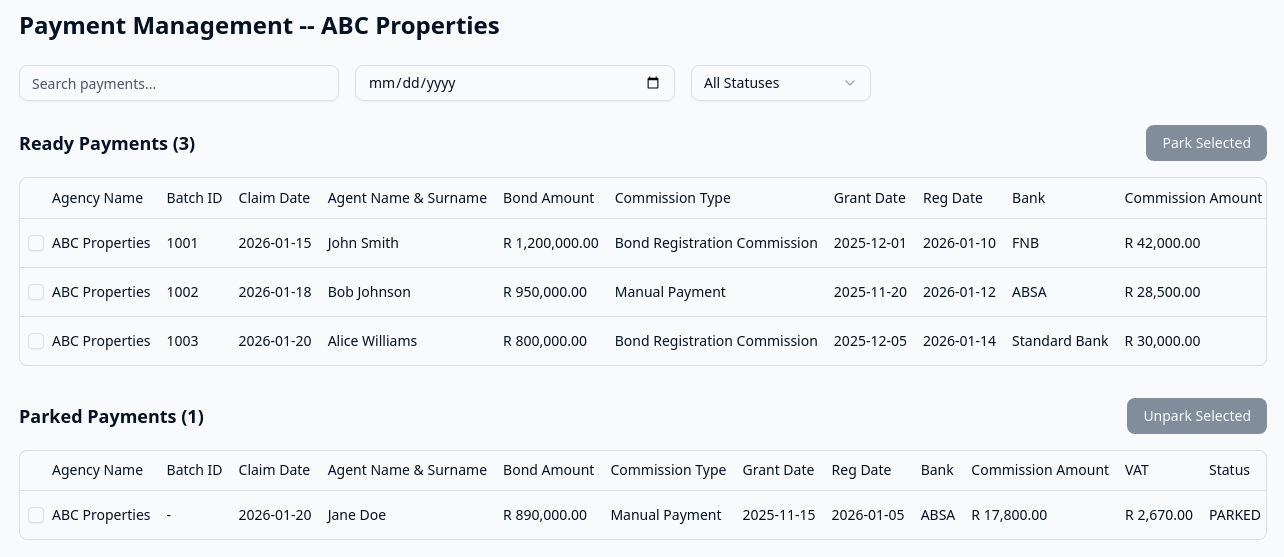
Test case: Payment Management Page › Scenario 6: Client-side text search filters Main Grid › AC-12: typing in search bar filters grid rows client-side
Expected: the text "John Smith" is shown, x1=320 y1=218 x2=495 y2=267
Type "John" into the search field at (179, 83), box x1=19 y1=65 x2=339 y2=101
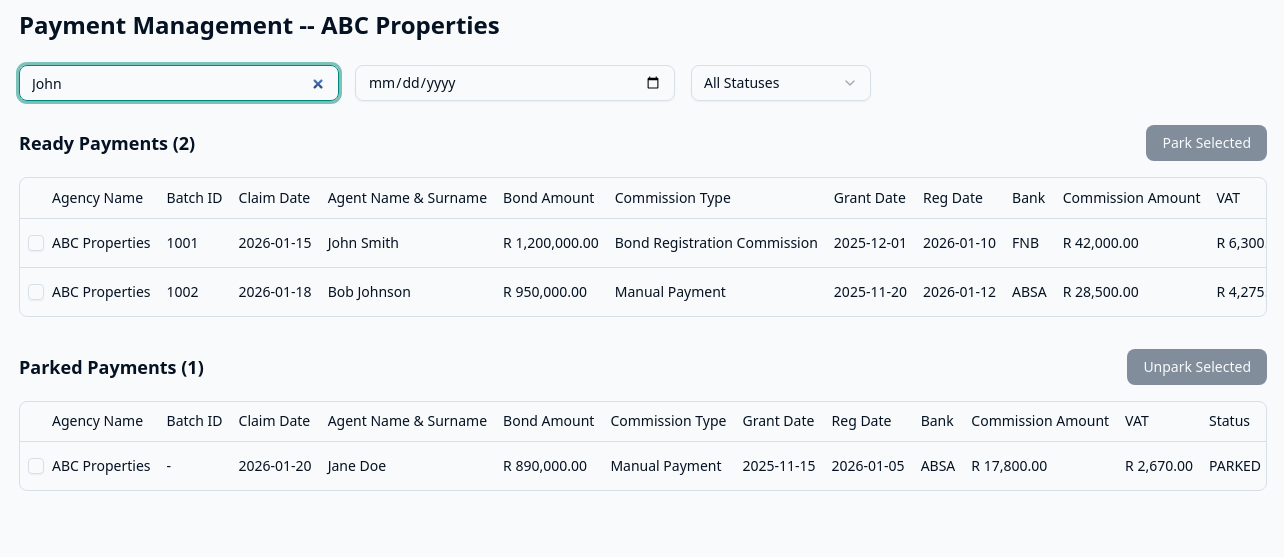
Expected: the text "John Smith" is shown, x1=320 y1=218 x2=495 y2=267
Expected: the text "Alice Williams" is gone
